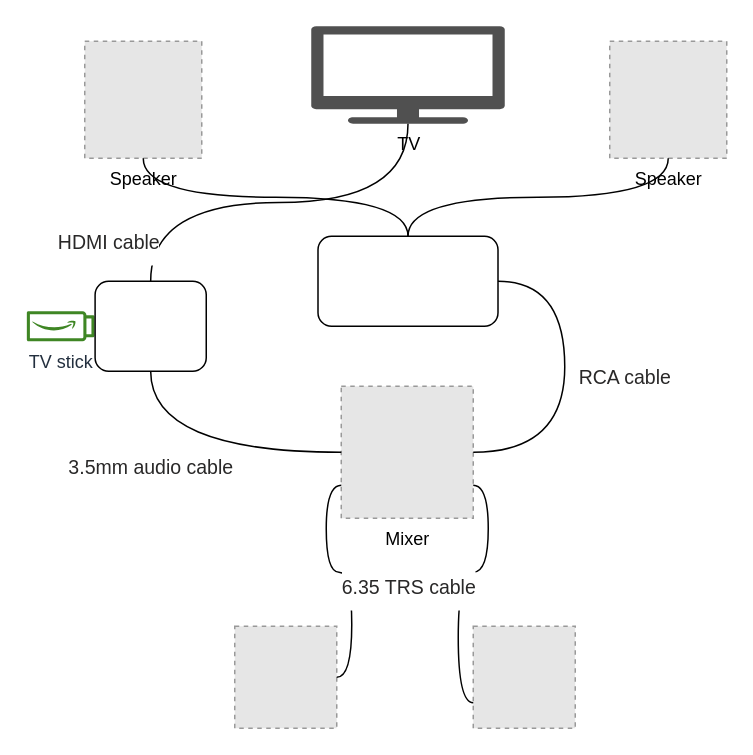
Image size: 753x755. Some labels were removed from this diagram. Grey dashed boxes stand in for pictures. The shapes that lost their labels are listed below. From the top down, each one's centre as x and y in pixels, then its label:
At (x=407, y=280): "Amp".
At (x=150, y=325): "HDMI Audio Splitter".
